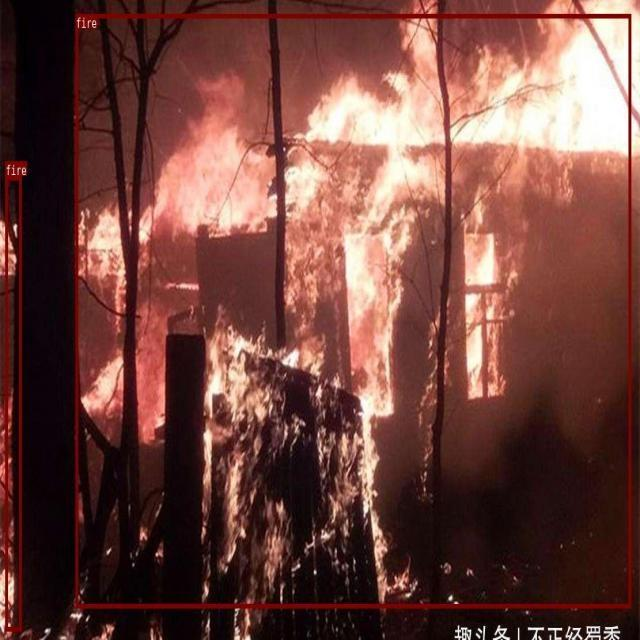fire: (76, 14, 631, 608), (5, 175, 21, 630)
